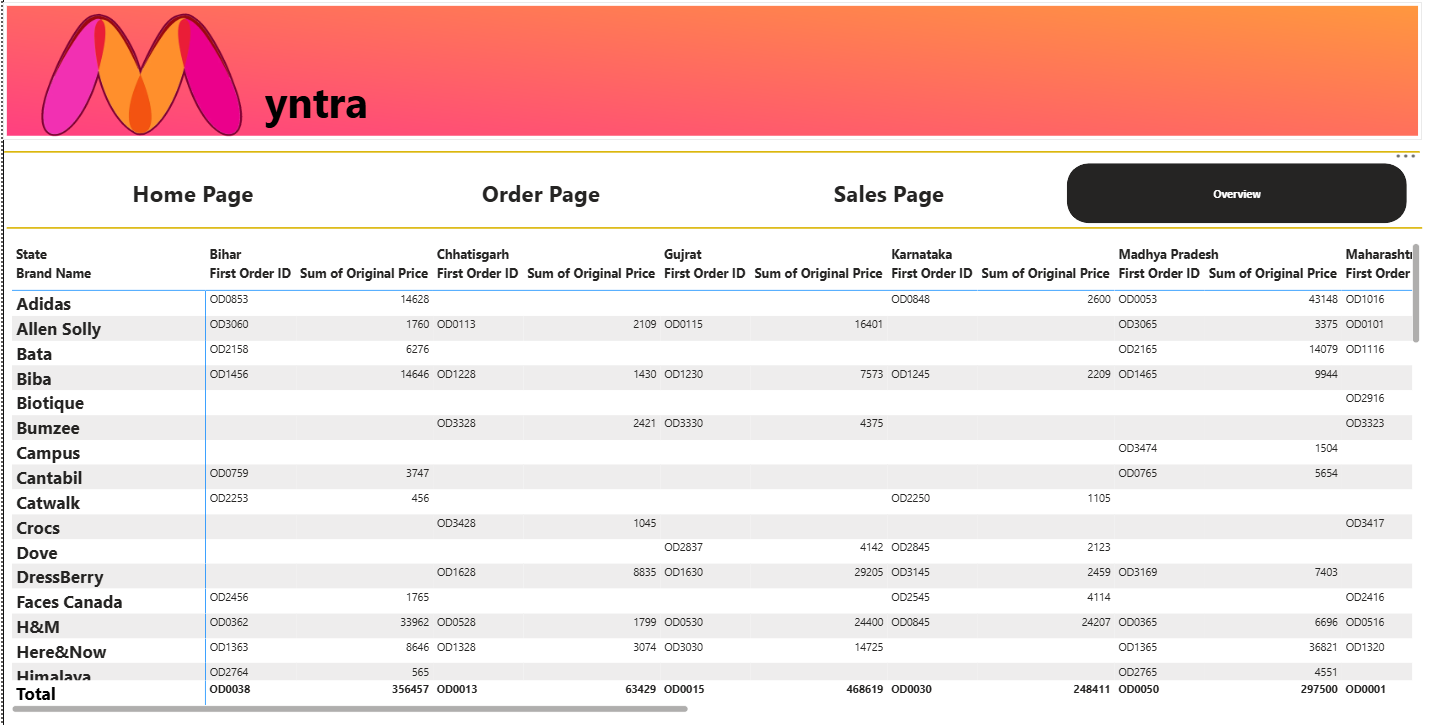

The dashboard page shown, as its layout file describes it:
{"tool":"powerbi","page":{"name":"Overview","canvas":[1800,920],"ordinal":3},"visuals":[{"type":"image","box":[0,12,1773.7,172.3],"z":0,"group":"g1"},{"type":"group","id":"g1","title":"Group 2","box":[0,12,1773.7,172.3],"z":0},{"type":"image","box":[15.2,21.1,325.6,163.1],"z":1000,"group":"g1"},{"type":"shape","box":[4.9,251.8,1769.3,86.7],"z":1000},{"type":"actionButton","box":[279.5,100.3,223.6,79],"z":2000,"group":"g1"},{"type":"pageNavigator","box":[24.5,214.2,1731.7,75.2],"z":2000},{"type":"shape","box":[1.6,168.4,1769.3,62.1],"z":3000},{"type":"pivotTable","fields":{"Values":["Min(fact_orders.Order ID)","Sum(fact_orders.Original Price)"],"Rows":["dim_products.Brand Name"],"Columns":["dim_customers.State"]},"box":[5.8,308.7,1769.5,596.3],"z":4000}]}

Visuals, with their boxes on the page's 1800x920 design canvas (x1, y1, x2, y2). These are canvas units, not pixel positions in the 1442x725 screenshot, which may show the page scaled, cropped or inside an application window:
image: locate(0, 12, 1774, 184)
"Group 2" group: locate(0, 12, 1774, 184)
image: locate(15, 21, 341, 184)
shape: locate(5, 252, 1774, 338)
actionButton: locate(280, 100, 503, 179)
pageNavigator: locate(24, 214, 1756, 289)
shape: locate(2, 168, 1771, 230)
pivotTable - Min(fact_orders.Order ID) x Sum(fact_orders.Original Price): locate(6, 309, 1775, 905)
